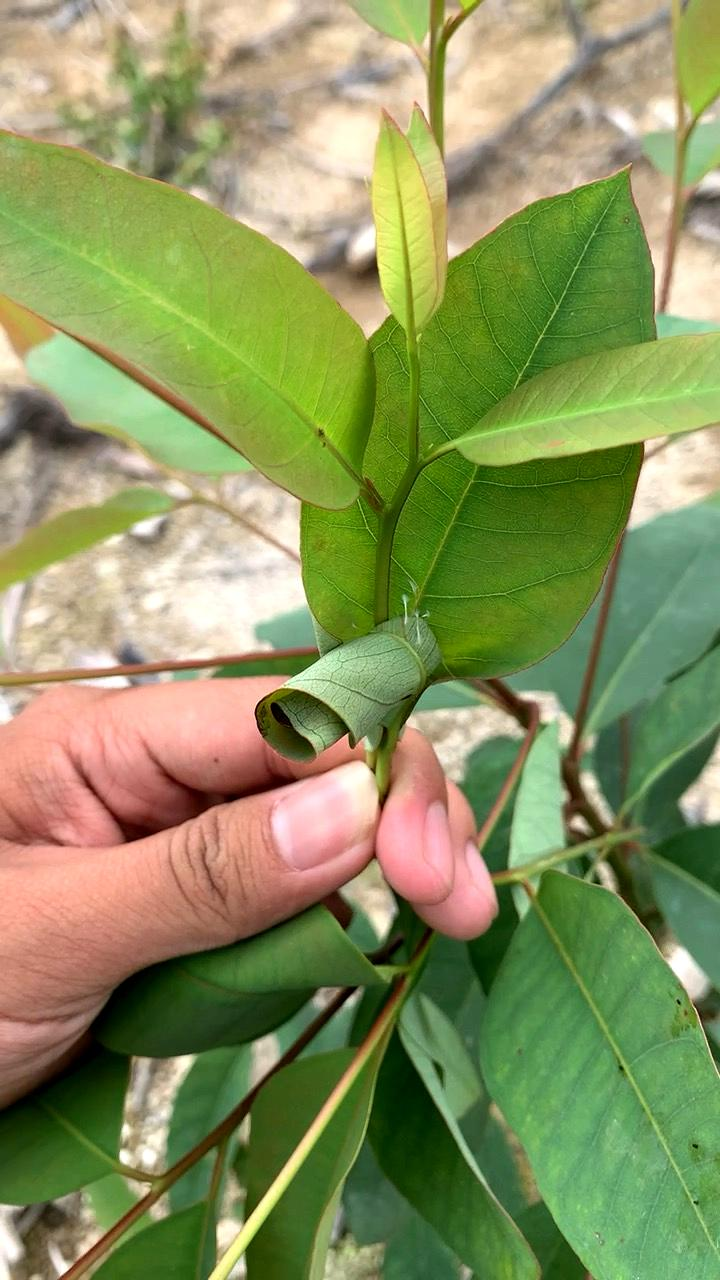Leaf Roller - Leaf: (235, 553, 491, 780)
